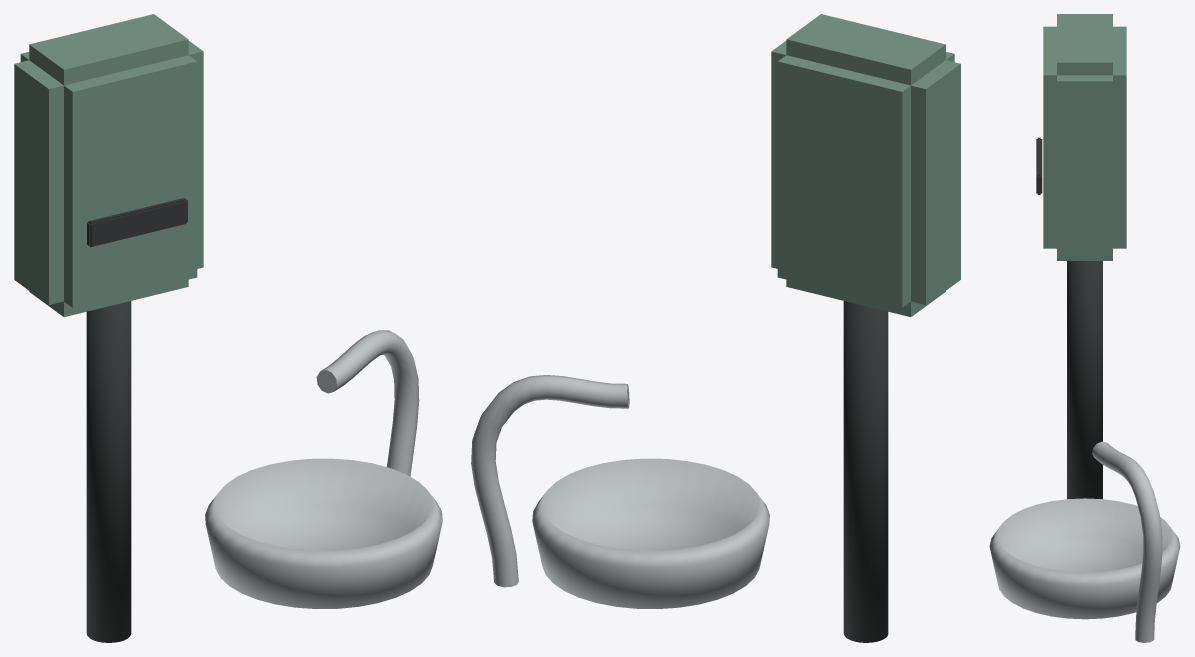
File: dog_service_station.glb
The picture shows the model from 3 angles, left to right: view 1: azimuth 30°, elevation 25°; view 2: azimuth 150°, elevation 25°; view 3: azimuth 270°, elevation 25°; orthographic projection. The views are drawn at different scales.
Parts seen in each view (by area): view 1: dog_service_station_Sage_powder_coat, dog_service_station_Brushed_stainless, dog_service_station_Anodised_graphite; view 2: dog_service_station_Sage_powder_coat, dog_service_station_Brushed_stainless, dog_service_station_Anodised_graphite; view 3: dog_service_station_Brushed_stainless, dog_service_station_Sage_powder_coat, dog_service_station_Anodised_graphite.
Boxes of the visible parts, x1,y1,x2,y2 form: dog_service_station_Sage_powder_coat: (14, 14, 203, 317); dog_service_station_Brushed_stainless: (205, 330, 442, 608); dog_service_station_Anodised_graphite: (86, 198, 187, 642); dog_service_station_Sage_powder_coat: (771, 14, 960, 316); dog_service_station_Brushed_stainless: (471, 375, 769, 608); dog_service_station_Anodised_graphite: (843, 301, 888, 642); dog_service_station_Brushed_stainless: (989, 441, 1180, 642); dog_service_station_Sage_powder_coat: (1043, 14, 1126, 260); dog_service_station_Anodised_graphite: (1036, 137, 1102, 499).
Size of the model in its own units: 0.9966 by 1.31 by 0.48.
